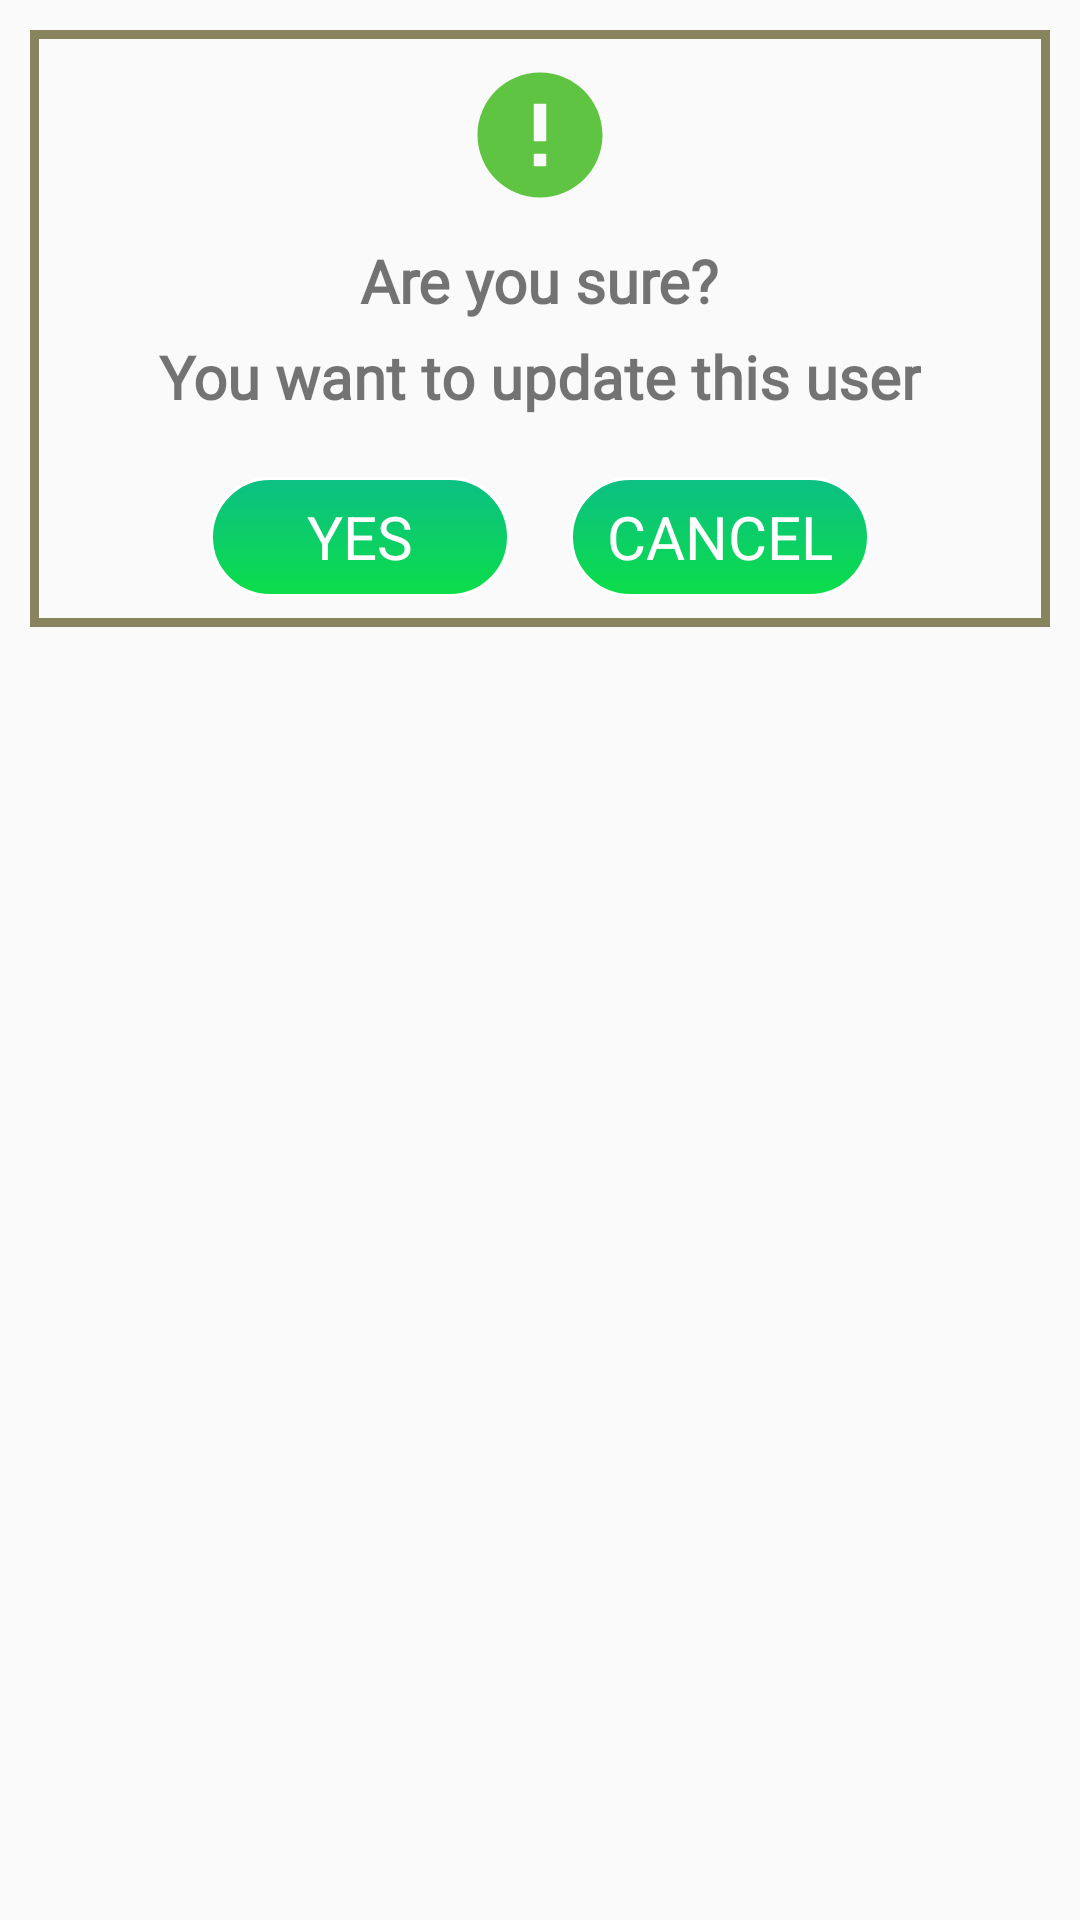

Where icons sit on this 1080px x 1920px app screen, as (x1, y1, x2, y2):
alert: (477, 72, 603, 198)
